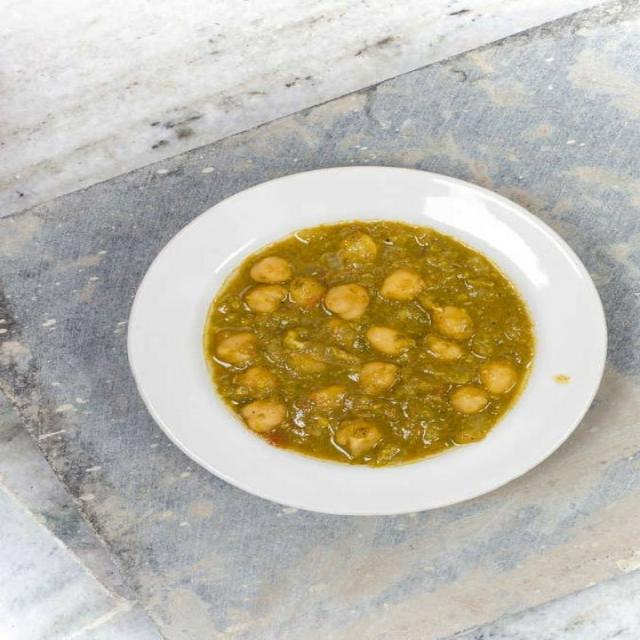Chole: (208, 222, 534, 467)
